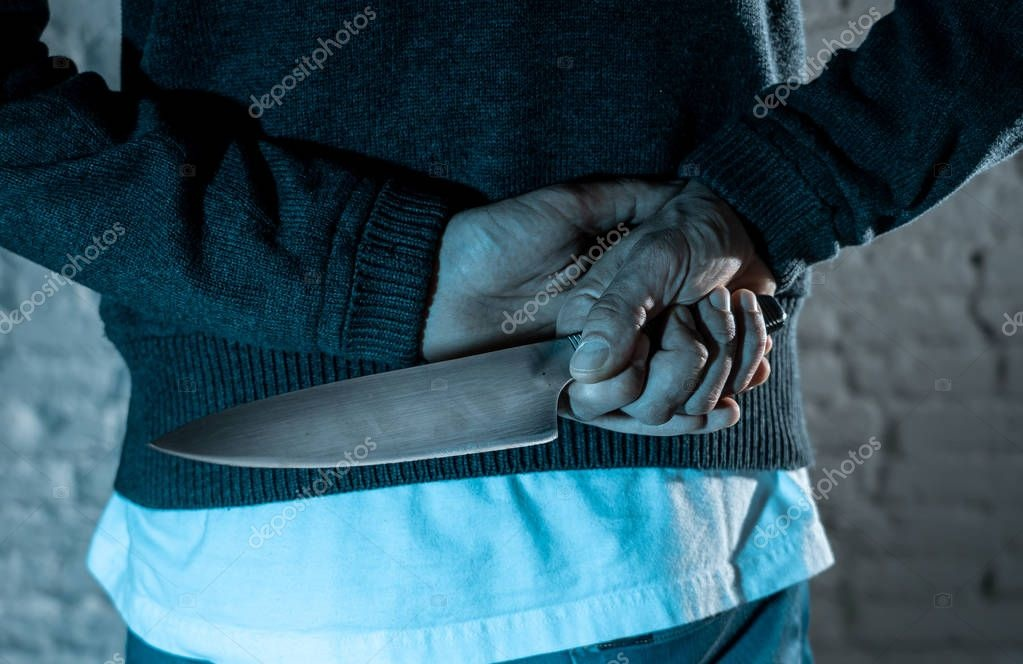knife: (145, 292, 788, 469)
